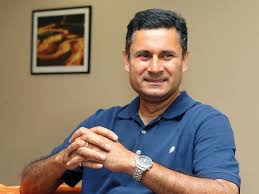Indian_Male: (131, 26, 185, 100)
